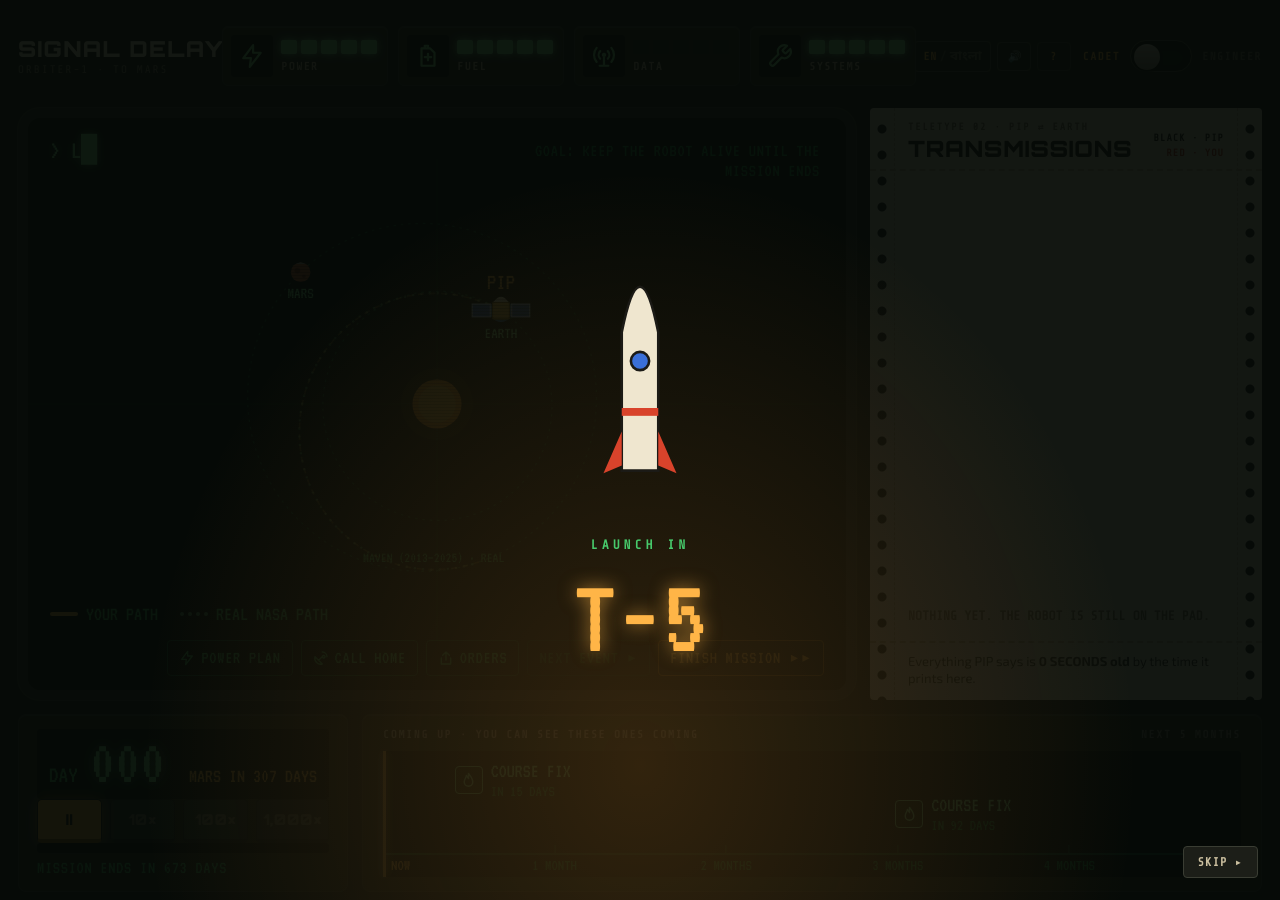
Test case: launch countdown › SKIP ends it at once
This screenshot has width=1280, height=900.
Click the button "SKIP ▸": (1220, 862) top-left (1183, 846), bottom-right (1258, 878)
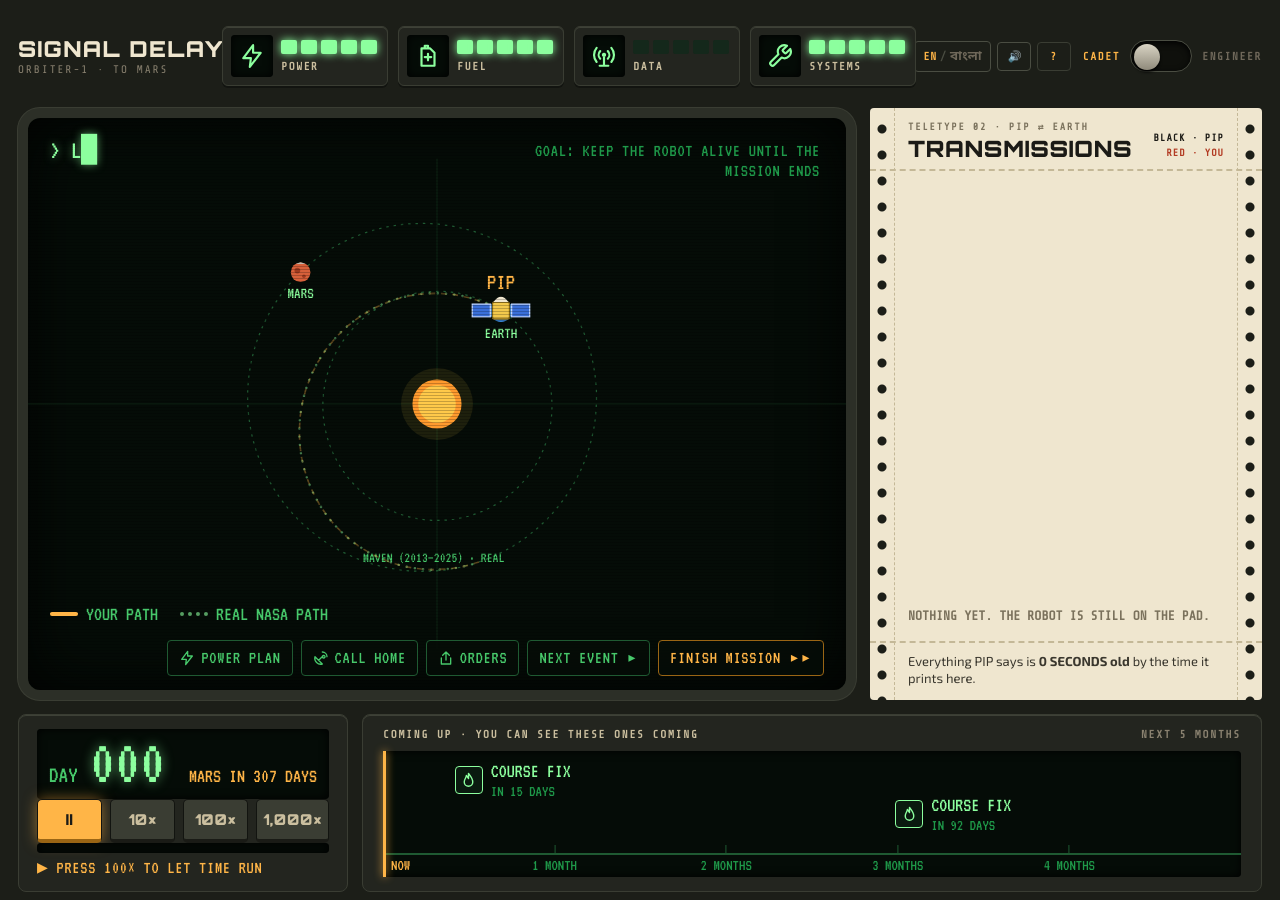
Expected: the text "LAUNCH IN" is gone
